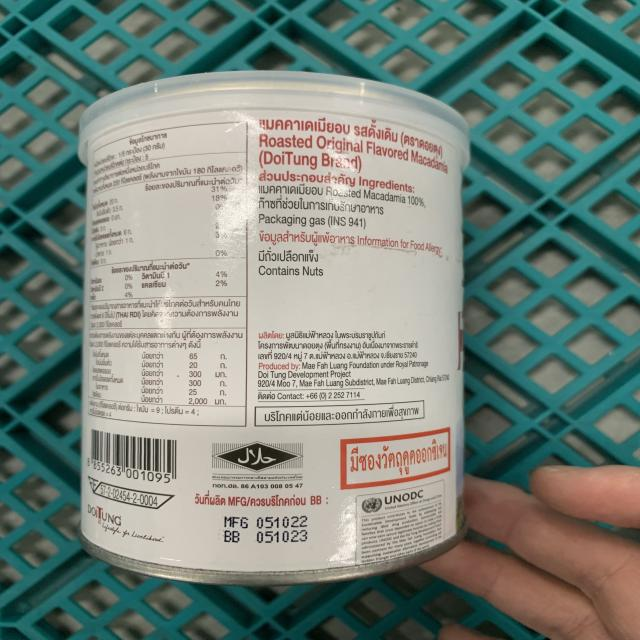object_name: (87, 90, 459, 568)
